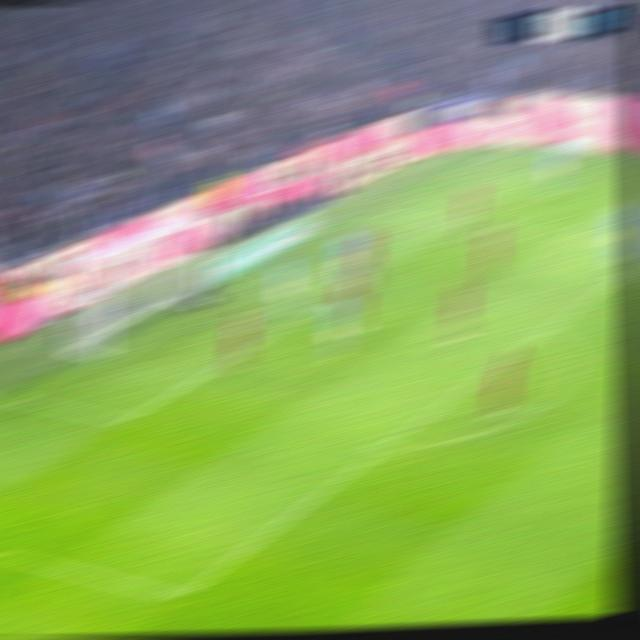bigarea_bottom_inner: (165, 587, 197, 612)
bigarea_top_outter: (366, 208, 390, 217)
bottom_arc_area_intersection: (364, 441, 398, 459)
corner: (481, 148, 508, 159)
smallarea_bottom_inner: (113, 413, 137, 428)
smallarea_bottom_outter: (9, 393, 35, 407)
smallarea_top_inner: (335, 279, 367, 298)
smallarea_top_outter: (254, 266, 277, 277)
top_arc_area_intersection: (534, 324, 560, 337)
